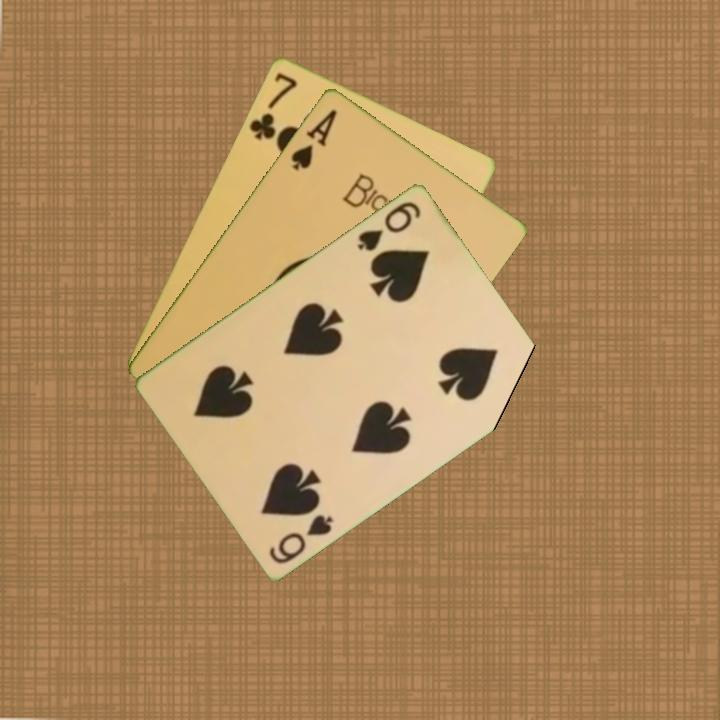6s: (265, 510, 337, 567), (353, 197, 424, 254)
7c: (245, 68, 300, 143)
As: (287, 104, 341, 173)
